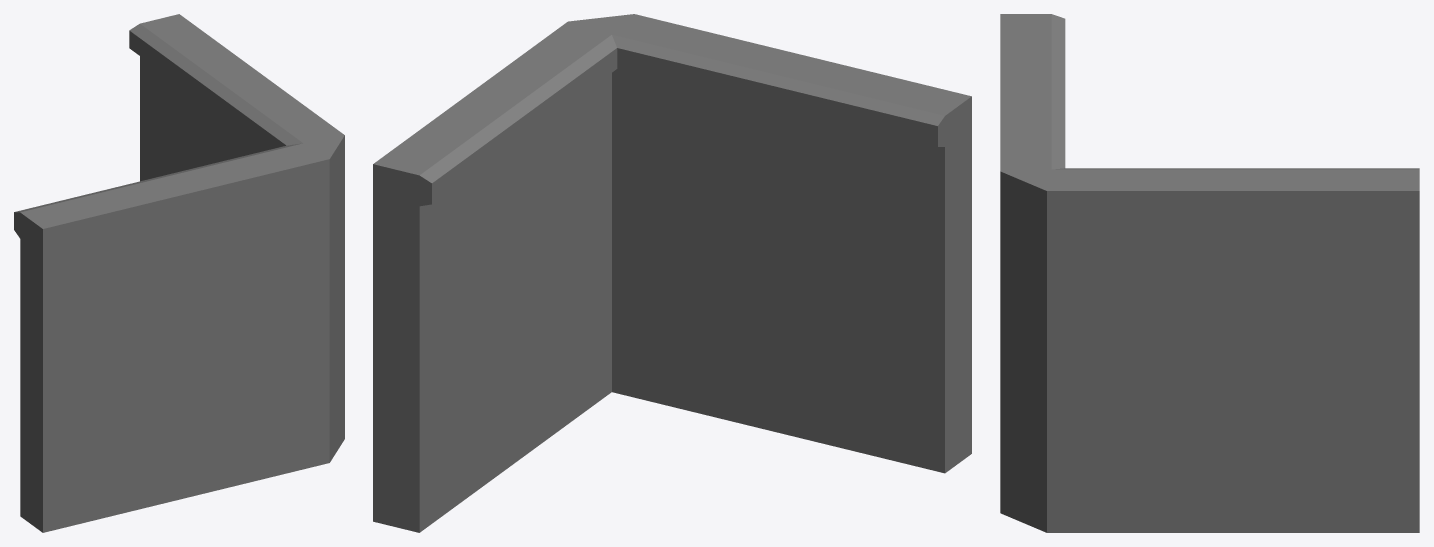
Rendered from Stone Wall 5.fbx.
3 views of the same model, side by side, from view 1: azimuth 30°, elevation 25°; view 2: azimuth 150°, elevation 25°; view 3: azimuth 270°, elevation 25° (orthographic). The views are drawn at different scales.
Parts seen in each view (by area): view 1: Stone_Wall_5; view 2: Stone_Wall_5; view 3: Stone_Wall_5.
Part boxes in pixels (x1=…): Stone_Wall_5: x1=14, y1=14, x2=344, y2=532; Stone_Wall_5: x1=373, y1=14, x2=971, y2=532; Stone_Wall_5: x1=1000, y1=14, x2=1419, y2=532.
Size of the model in its own units: 4.5 by 4.05 by 4.5.
